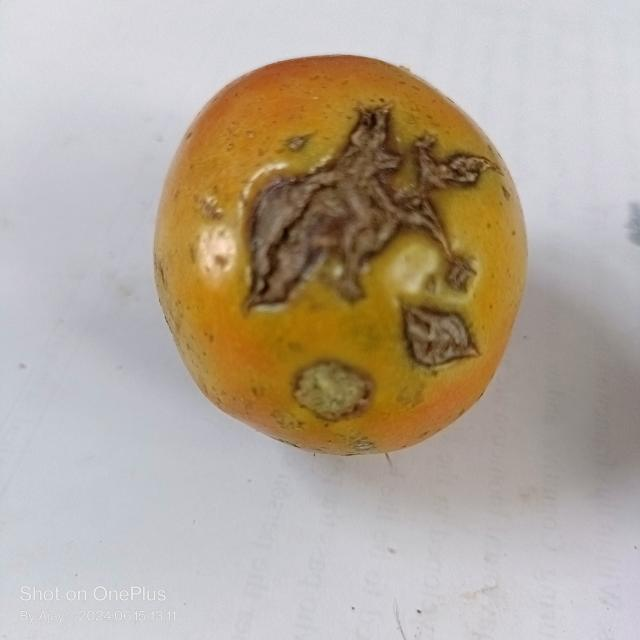Bacterial_Spot: (240, 102, 480, 286), (279, 356, 372, 422), (403, 301, 478, 363)
